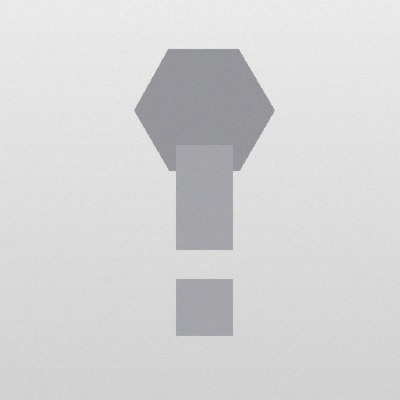broken: (164, 244, 244, 284)
